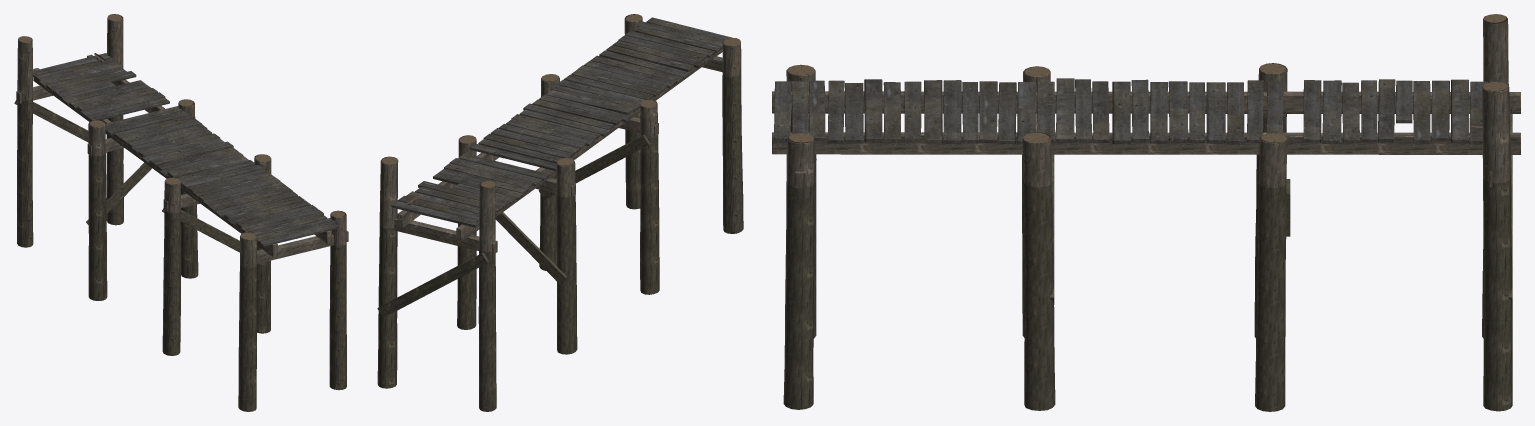
Rendered from dock.glb.
3 renders of one model, left to right at view 1: azimuth 30°, elevation 25°; view 2: azimuth 150°, elevation 25°; view 3: azimuth 270°, elevation 25°, orthographic. The views are drawn at different scales.
Visible parts, largest first — view 1: Dock_mesh; view 2: Dock_mesh; view 3: Dock_mesh.
Boxes of the visible parts, <box> form: Dock_mesh: <box>14,14,348,411</box>; Dock_mesh: <box>377,14,743,411</box>; Dock_mesh: <box>772,14,1520,411</box>.
Size of the model in its own units: 1.69 by 3.05 by 6.5.
5 materials, 4 textured.
